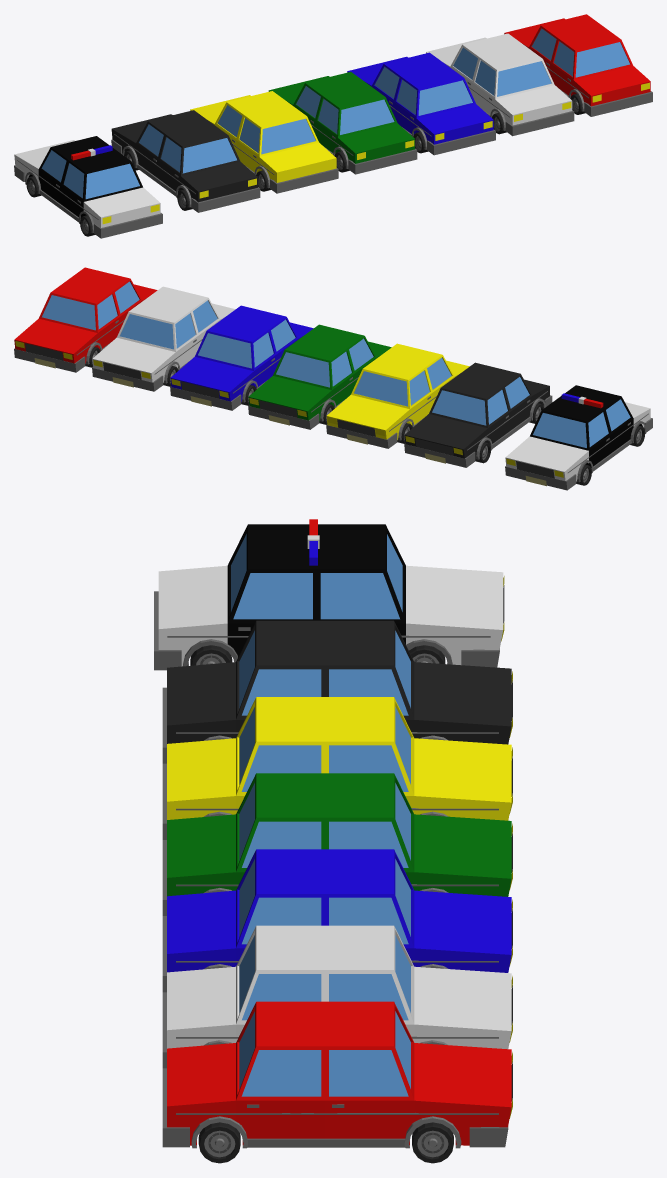
The model's file is Cars.fbx.
3 views of the same model, one above another, from view 1: azimuth 30°, elevation 25°; view 2: azimuth 150°, elevation 25°; view 3: azimuth 270°, elevation 25° (orthographic). The views are drawn at different scales.
Visible parts, largest first — view 1: Cube.001, Cube.042, Cube.038, Cube.040, Cube.041, Cube.037, Cube.039; view 2: Cube.001, Cube.042, Cube.037, Cube.038, Cube.039, Cube.040, Cube.041; view 3: Cube.037, Cube.001, Cube.042, Cube.041, Cube.040, Cube.038, Cube.039.
Boxes of the visible parts, <box> form: Cube.001: <box>14,136,162,238</box>; Cube.042: <box>111,110,260,212</box>; Cube.038: <box>426,33,574,136</box>; Cube.040: <box>268,72,417,174</box>; Cube.041: <box>190,91,338,193</box>; Cube.037: <box>504,14,652,116</box>; Cube.039: <box>347,52,495,155</box>; Cube.001: <box>505,385,652,490</box>; Cube.042: <box>404,362,552,467</box>; Cube.037: <box>14,267,157,372</box>; Cube.038: <box>92,286,235,391</box>; Cube.039: <box>170,305,313,410</box>; Cube.040: <box>248,324,391,429</box>; Cube.041: <box>326,343,469,448</box>; Cube.037: <box>162,1001,512,1163</box>; Cube.001: <box>154,519,504,670</box>; Cube.042: <box>162,620,512,763</box>; Cube.041: <box>162,697,512,839</box>; Cube.040: <box>162,773,512,915</box>; Cube.038: <box>162,925,512,1068</box>; Cube.039: <box>162,849,512,992</box>.
Size of the model in its own units: 1781 by 181 by 500.
